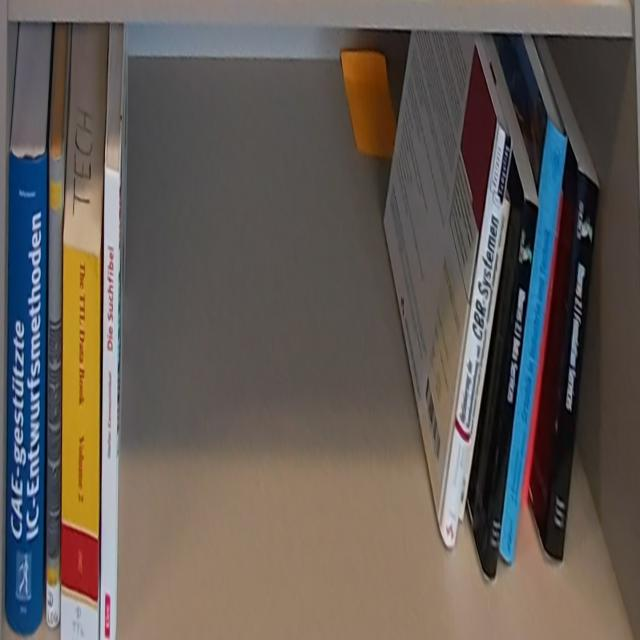Book Spine: (439, 125, 513, 549), (500, 118, 568, 566), (544, 170, 600, 565), (483, 198, 539, 586), (5, 150, 47, 633), (62, 241, 101, 640), (101, 165, 119, 640), (47, 152, 63, 627)
